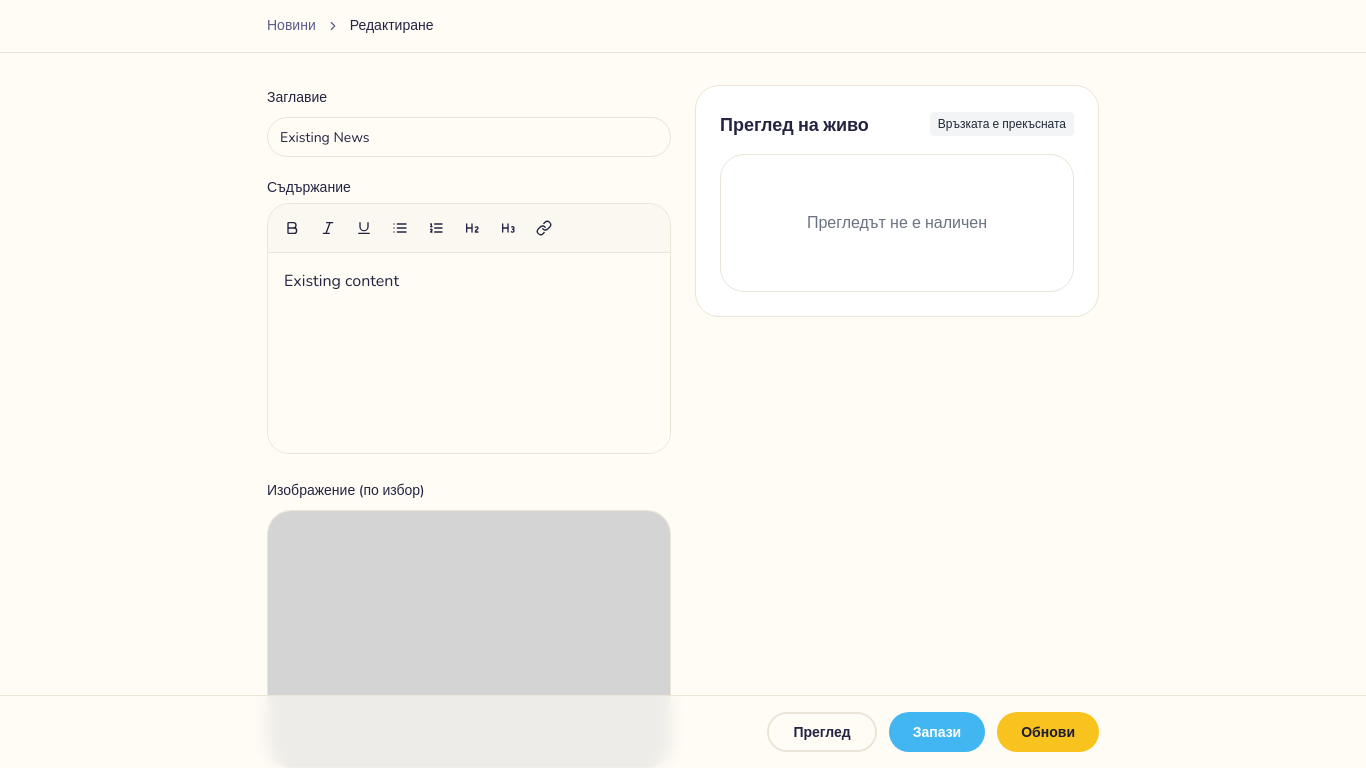
Test case: NewsEdit › Publish/Update Functionality (Story 3.8) › disables all buttons during update operation
expect the field showing "Existing News" is shown: met, box [267,117,671,157]
# Click update
What coordinates should you click on to do the following:
click the button "Обнови"
I would click on:
 (1048, 732)
Its box is [997,712,1099,752].
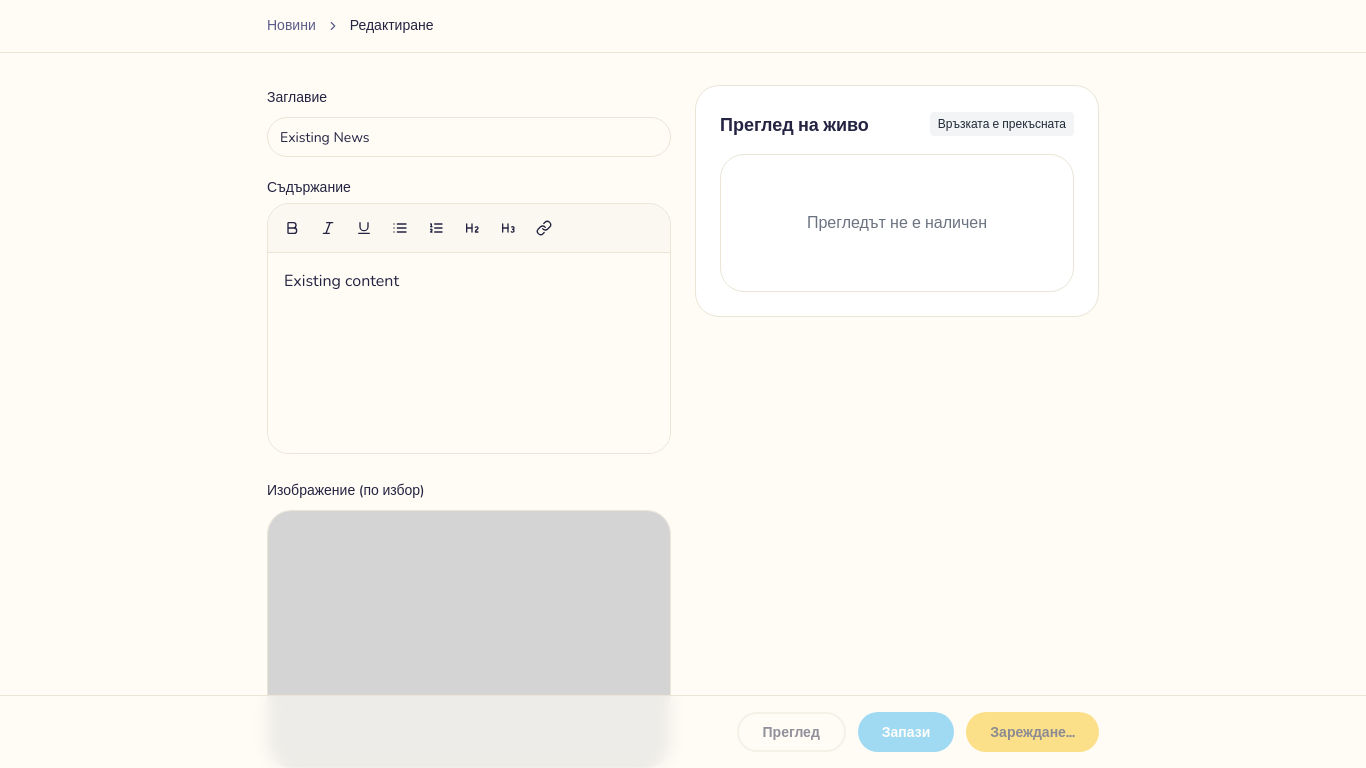
expect the button named "Обнови" is disabled: met, box [966,712,1099,752]
expect the button "Запази" is disabled: met, box [858,712,954,752]
expect the button "Преглед" is disabled: met, box [736,712,846,752]
